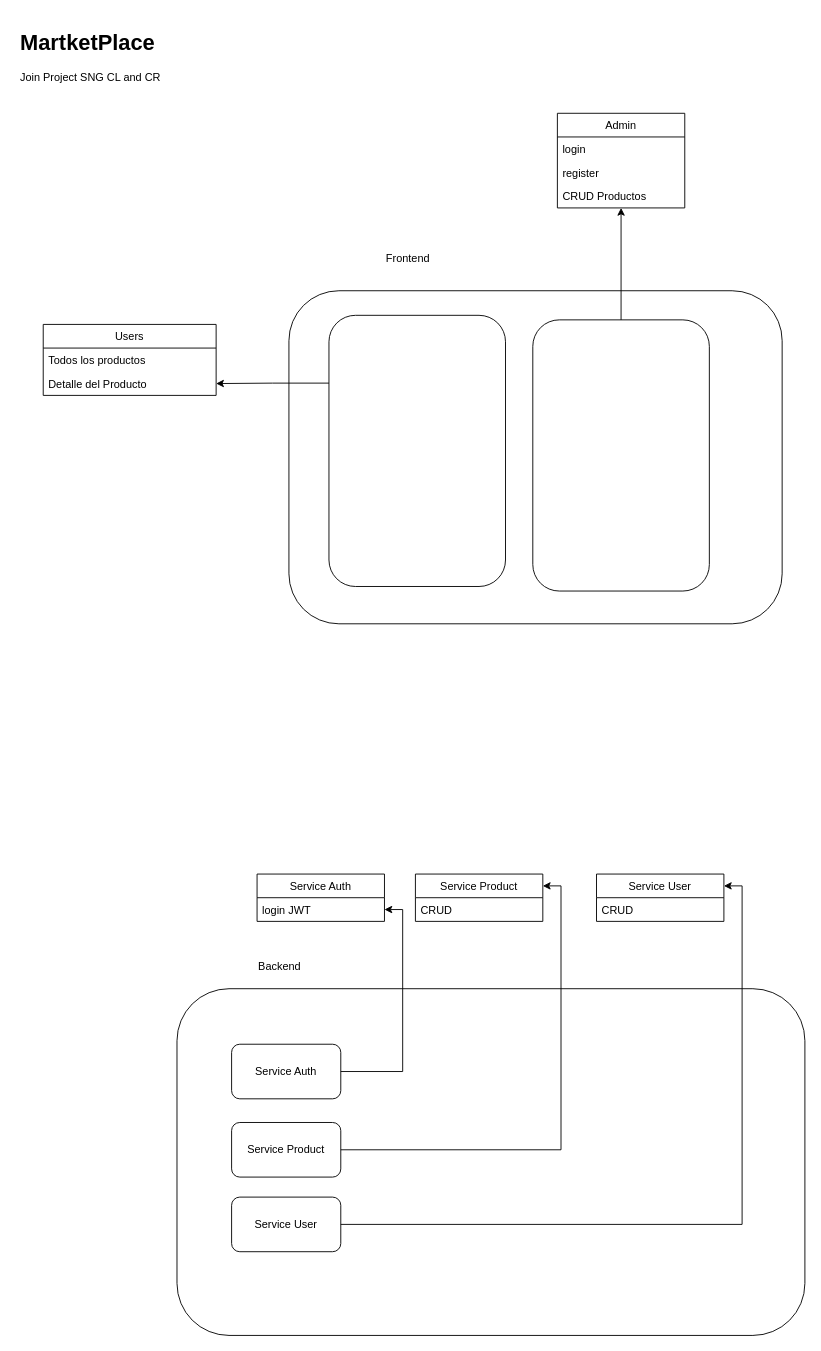
This 821x1351 diagram has some shape labels left out. The centre of each missing label's shape, as x and y in pixels:
Marketplace visible para todos: the point at 417,450
Usuario registrado para poder publicar productos: the point at 620,455
